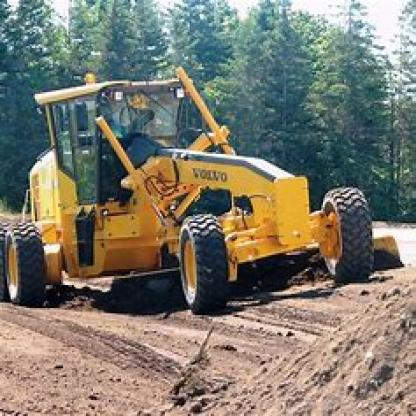bull_dozer/loader/grader: (1, 66, 376, 328)
